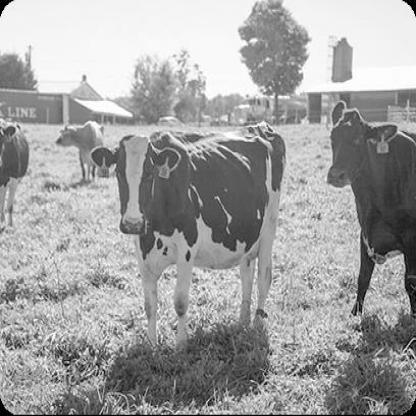cow: (92, 123, 285, 352), (326, 101, 416, 317), (0, 122, 30, 228), (57, 121, 106, 179)
